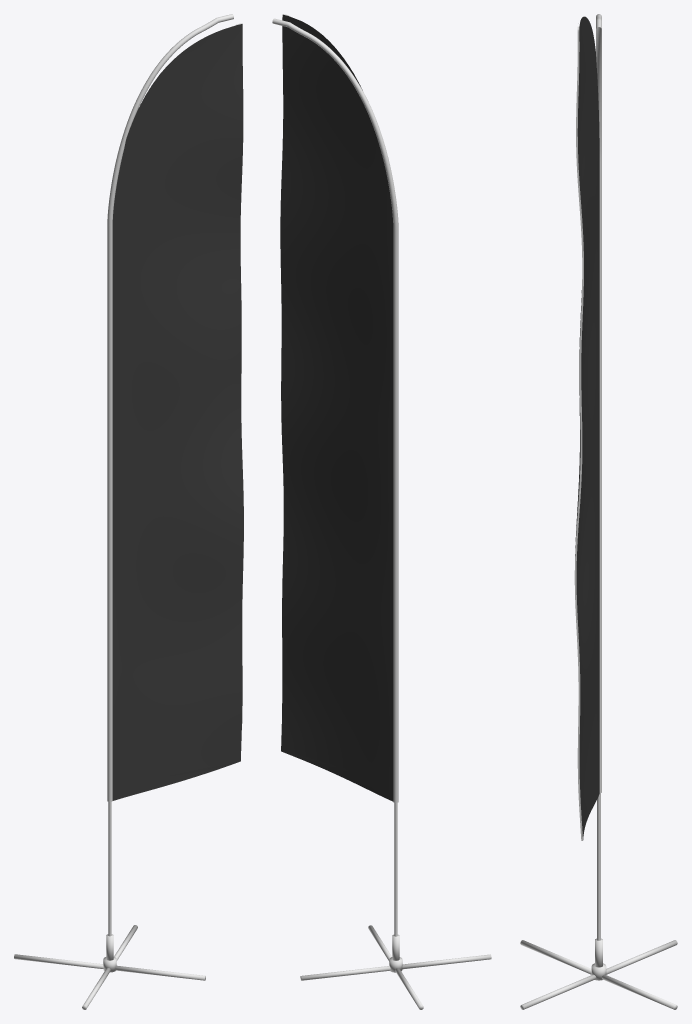
File: flag14-single-x.glb
3 views of the same model, side by side, from view 1: azimuth 30°, elevation 25°; view 2: azimuth 150°, elevation 25°; view 3: azimuth 270°, elevation 25° (orthographic). The views are drawn at different scales.
Parts seen in each view (by area): view 1: side_front, pocket, pole; view 2: side_back, pocket, pole; view 3: side_back, pocket, edge, pole, base_arm0, base_arm3, base_arm1, base_arm2.
Part boxes in pixels (<box>): side_front: <box>112,24,243,800</box>; pocket: <box>107,14,233,801</box>; pole: <box>108,802,111,936</box>; side_back: <box>280,14,393,801</box>; pocket: <box>272,18,398,802</box>; pole: <box>394,803,397,936</box>; side_back: <box>576,16,599,839</box>; pocket: <box>596,14,601,793</box>; edge: <box>574,26,583,840</box>; pole: <box>597,793,600,940</box>; base_arm0: <box>601,974,677,1009</box>; base_arm3: <box>520,974,596,1009</box>; base_arm1: <box>606,940,677,974</box>; base_arm2: <box>520,940,591,974</box>.
Size of the model in its own units: 0.9081 by 4.34 by 0.6088.
1 material, 1 textured.
